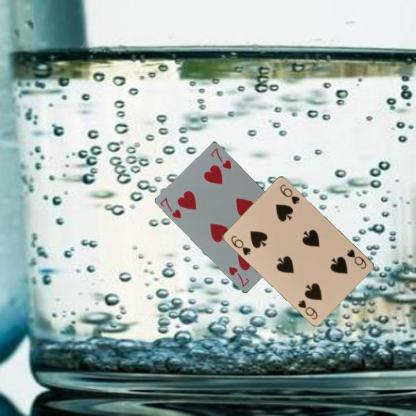6s: (344, 247, 368, 270), (229, 233, 252, 256)
7h: (158, 194, 182, 219)
